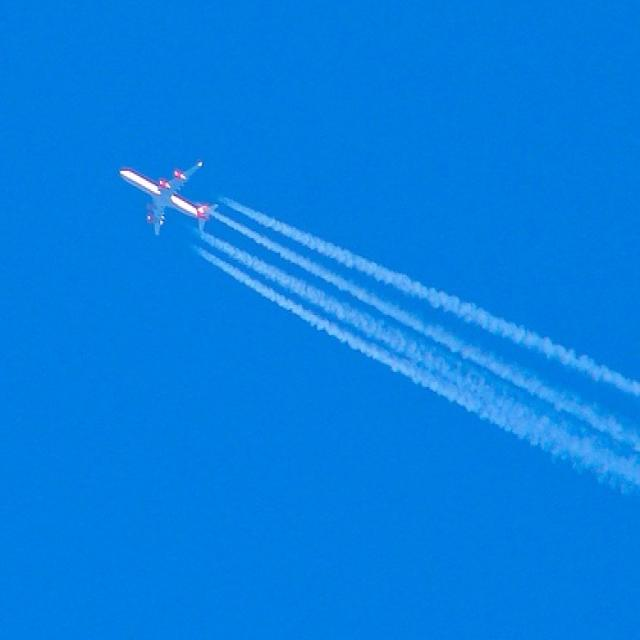aeroplane: (119, 164, 222, 241)
